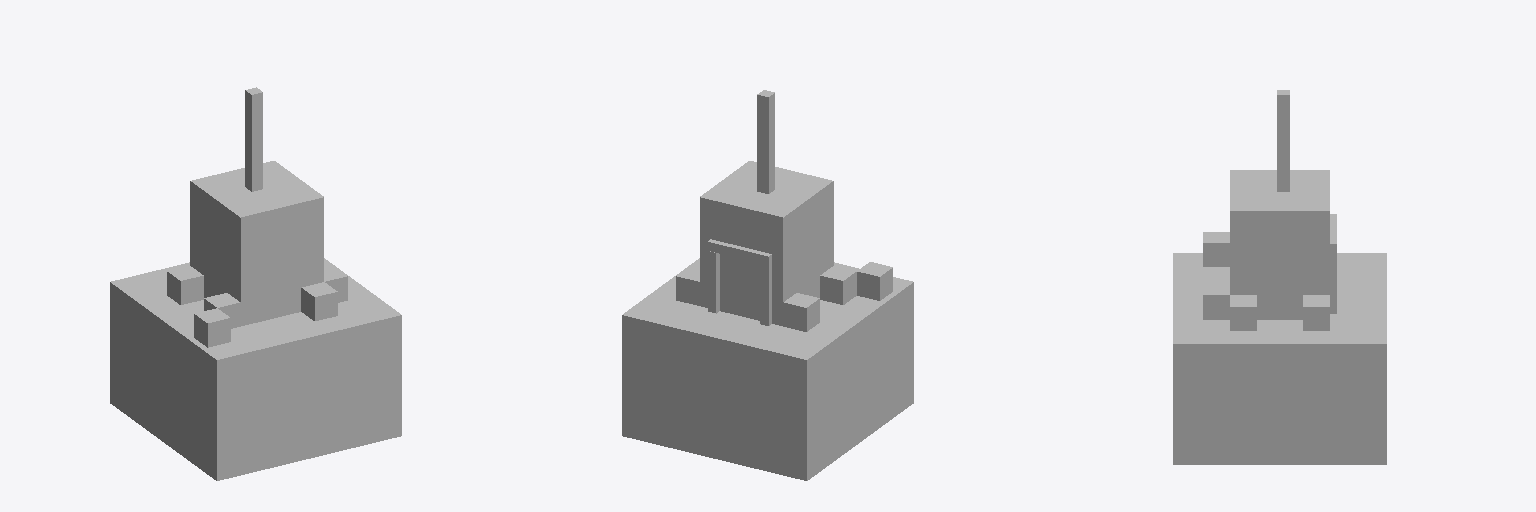
File: Model_Building_Start.obj
3 views of the same model, side by side, from view 1: azimuth 30°, elevation 25°; view 2: azimuth 150°, elevation 25°; view 3: azimuth 270°, elevation 25° (orthographic).
Parts seen in each view (by area): view 1: cube; view 2: cube; view 3: cube.
Boxes of the visible parts, x1,y1,x2,y2 form: cube: [110, 87, 401, 480]; cube: [622, 90, 913, 480]; cube: [1173, 90, 1386, 464].
Bounding box in the file's own units: 1 × 1.69 × 1.